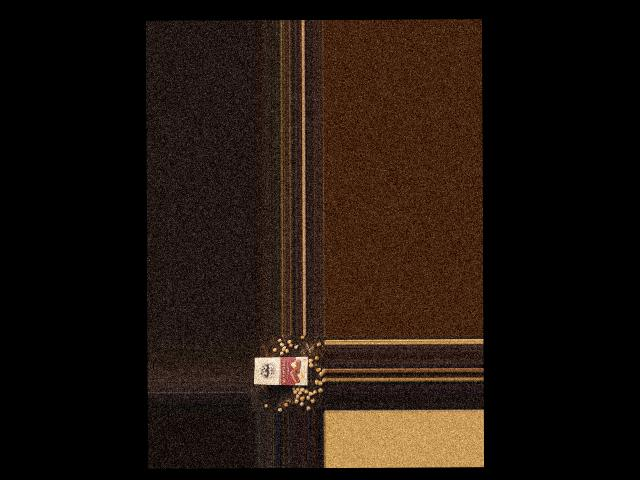chocolate: (252, 355, 309, 388)
